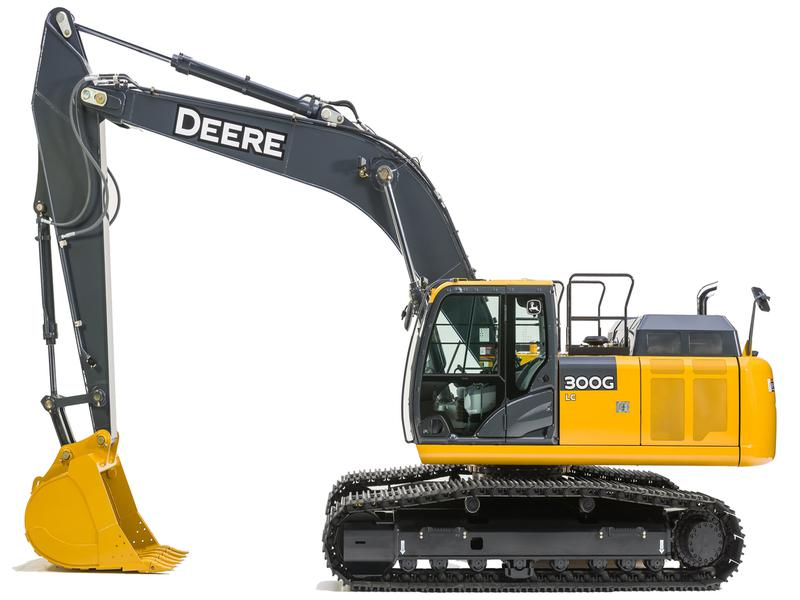shovel: (11, 1, 789, 589)
